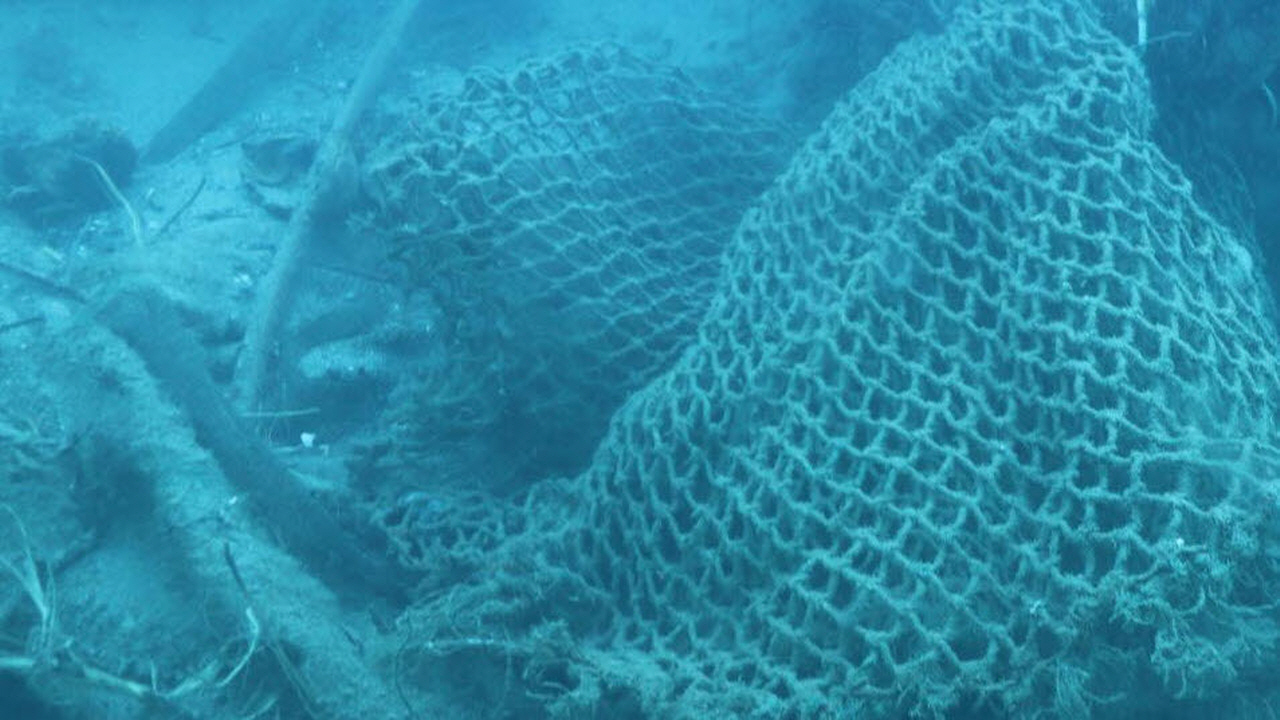fish net: (412, 0, 1280, 699)
